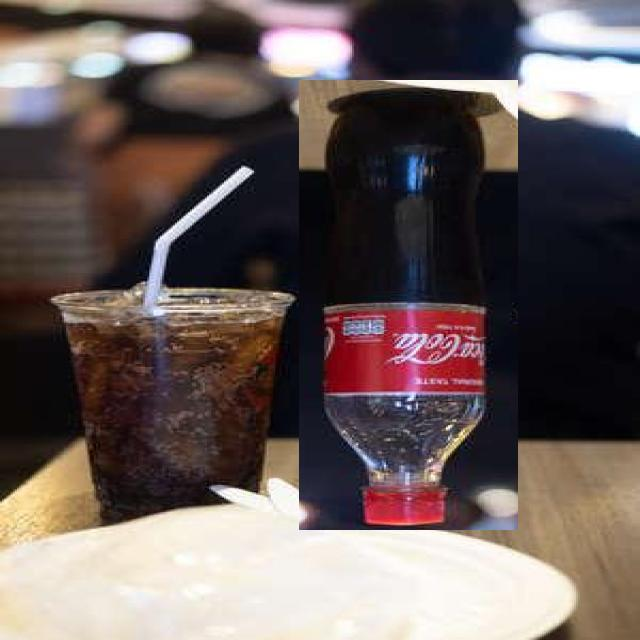coca-cola: (299, 80, 518, 530)
